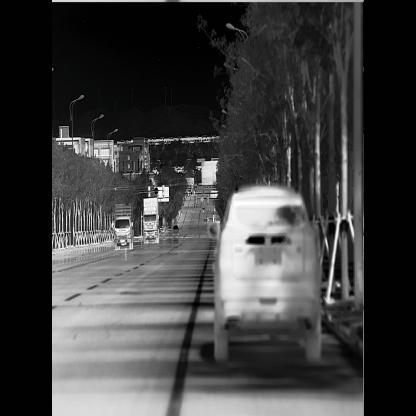car: (206, 186, 322, 362), (114, 203, 134, 249), (143, 197, 159, 242), (172, 225, 179, 235), (214, 217, 220, 223), (204, 216, 210, 222), (188, 186, 191, 196), (194, 183, 197, 191), (202, 206, 205, 212)
